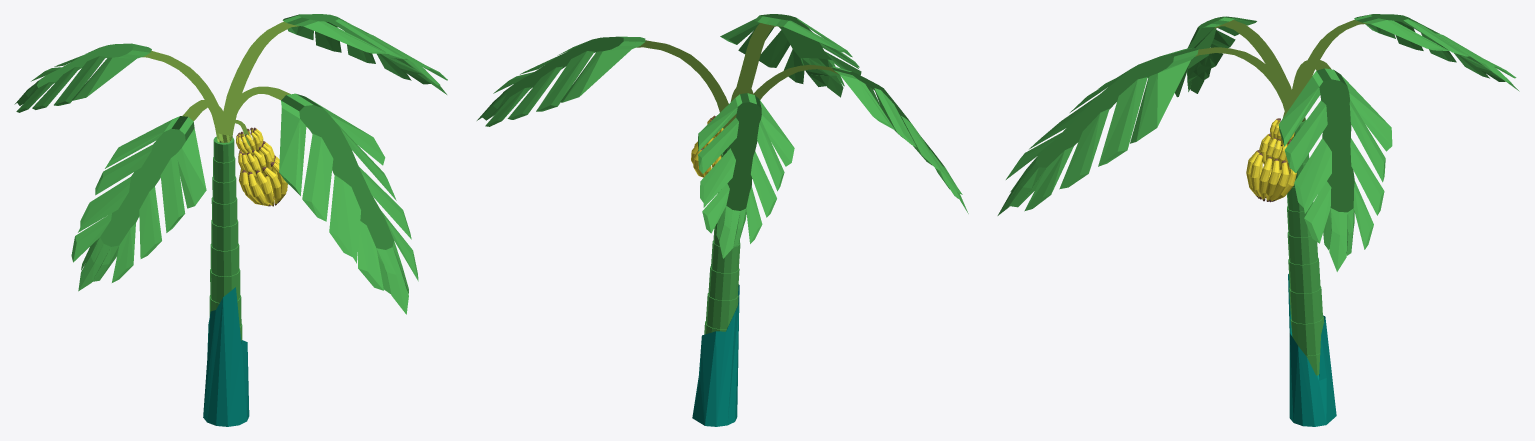
File: BananaTree.glb
The picture shows the model from 3 angles, left to right: view 1: azimuth 30°, elevation 25°; view 2: azimuth 150°, elevation 25°; view 3: azimuth 270°, elevation 25°; orthographic projection. The views are drawn at different scales.
Parts seen in each view (by area): view 1: Node; view 2: Node; view 3: Node.
Boxes of the visible parts, box(x1,y1,x2,y2) form: Node: box(14, 14, 447, 426); Node: box(477, 14, 968, 426); Node: box(997, 14, 1519, 426).
Bounding box in the file's own units: 4.67 × 3.81 × 4.74.
